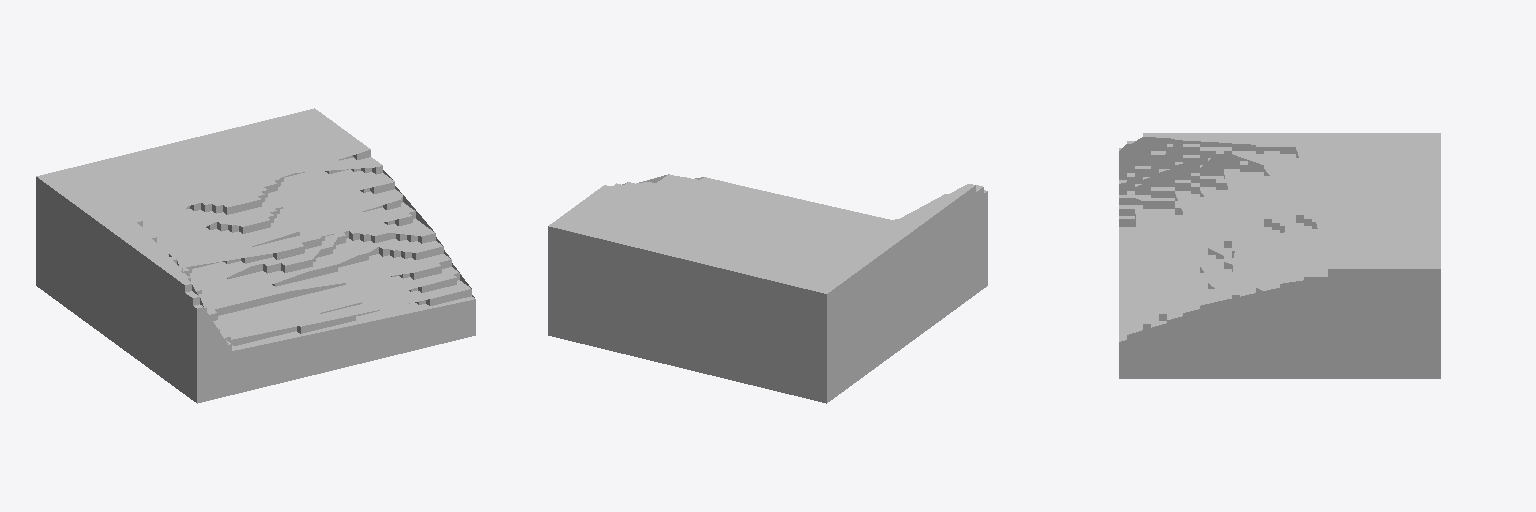
The model's file is ElevSlopPlatRight.obj.
3 renders of one model, left to right at view 1: azimuth 30°, elevation 25°; view 2: azimuth 150°, elevation 25°; view 3: azimuth 270°, elevation 25°, orthographic.
Parts seen in each view (by area): view 1: Untitled; view 2: Untitled; view 3: Untitled.
Boxes of the visible parts, x1,y1,x2,y2 form: Untitled: [36, 108, 475, 403]; Untitled: [548, 174, 987, 403]; Untitled: [1119, 133, 1440, 378].
Size of the model in its own units: 4 by 1.5 by 4.